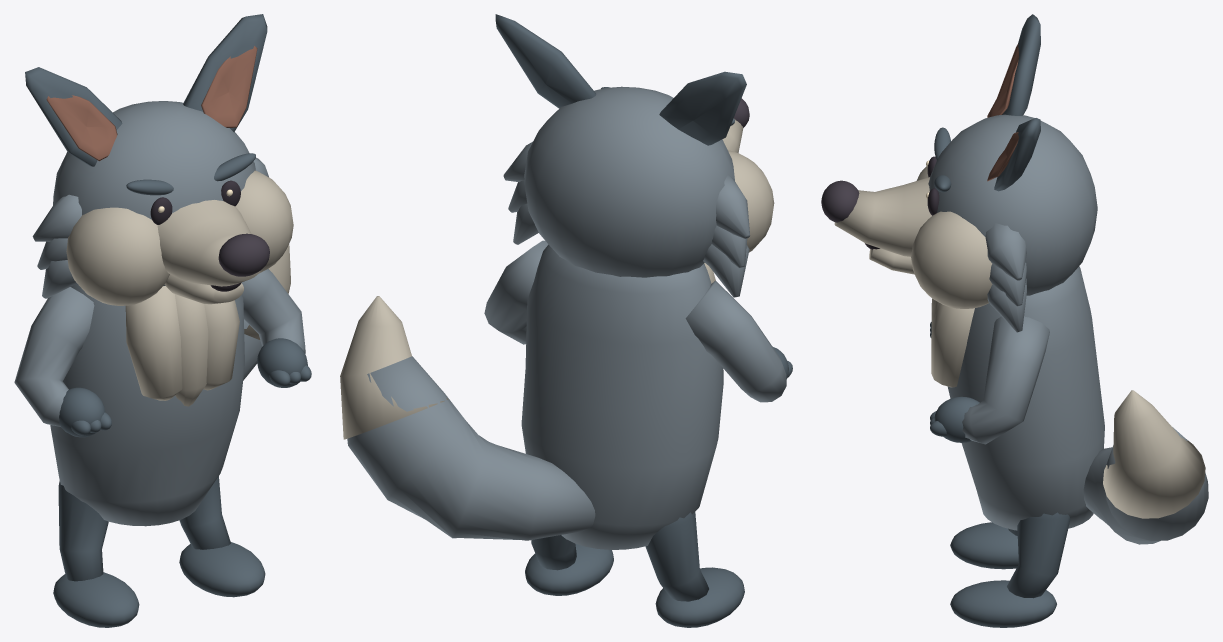
Rendered from wolf_idle.glb.
3 views of the same model, side by side, from view 1: azimuth 30°, elevation 25°; view 2: azimuth 150°, elevation 25°; view 3: azimuth 270°, elevation 25° (orthographic). The views are drawn at different scales.
Visible parts, largest first — view 1: wolf; view 2: wolf; view 3: wolf.
Boxes of the visible parts, x1,y1,x2,y2 form: wolf: (14,14,311,627); wolf: (340,14,792,627); wolf: (821,14,1208,627).
Bounding box in the file's own units: 0.2622 × 0.3991 × 0.2676.
